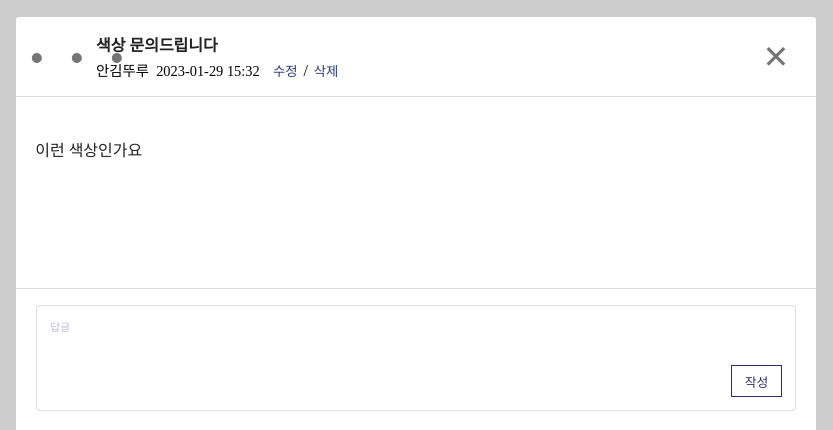
Test: InquiryModal › 상품문의 수정 › 수정 버튼을 클릭했을 경우 › 상품문의 수정 폼을 볼 수 있다
The image size is (833, 430).
(page scrolled)
Click the button "수정".
click(285, 71)  # box x1=267 y1=60 x2=303 y2=81
(page scrolled)
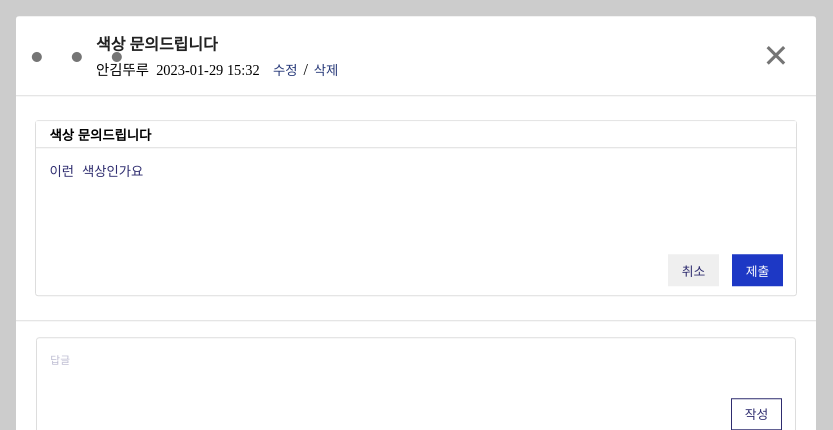
Expected: the field named "editTitle" is shown, x1=36 y1=122 x2=796 y2=148
Expected: the text box named "editContent" is shown, x1=36 y1=155 x2=796 y2=248
